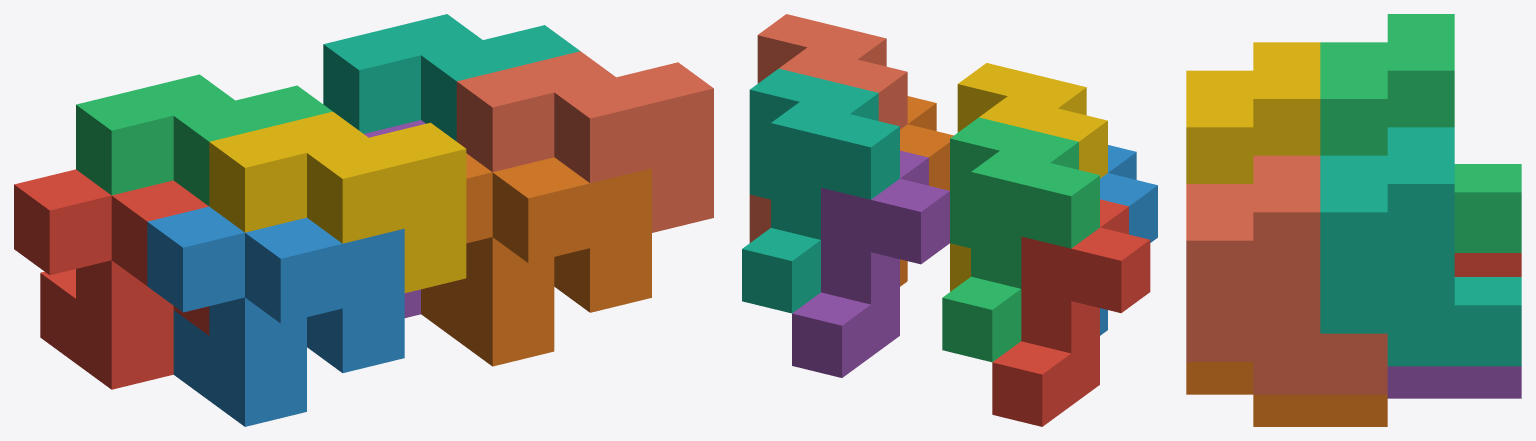
Rendered from tiling.obj.
3 views of the same model, side by side, from view 1: azimuth 30°, elevation 25°; view 2: azimuth 150°, elevation 25°; view 3: azimuth 270°, elevation 25° (orthographic). The views are drawn at different scales.
Visible parts, largest first — view 1: copy_1_domain_2, copy_1_domain_6, copy_1_domain_4, copy_1_domain_8, copy_1_domain_1, copy_1_domain_3, copy_1_domain_7, copy_1_domain_5; view 2: copy_1_domain_3, copy_1_domain_7, copy_1_domain_1, copy_1_domain_5, copy_1_domain_8, copy_1_domain_4, copy_1_domain_2, copy_1_domain_6; view 3: copy_1_domain_7, copy_1_domain_8, copy_1_domain_3, copy_1_domain_4, copy_1_domain_6, copy_1_domain_5, copy_1_domain_1.
Boxes of the visible parts, <box> form: copy_1_domain_2: <box>147,206,404,426</box>; copy_1_domain_6: <box>421,153,651,366</box>; copy_1_domain_4: <box>209,111,466,293</box>; copy_1_domain_8: <box>456,51,713,232</box>; copy_1_domain_1: <box>14,169,209,389</box>; copy_1_domain_3: <box>76,74,332,205</box>; copy_1_domain_7: <box>323,14,580,141</box>; copy_1_domain_5: <box>364,120,425,317</box>; copy_1_domain_3: <box>942,117,1099,362</box>; copy_1_domain_7: <box>742,68,899,313</box>; copy_1_domain_1: <box>992,199,1150,426</box>; copy_1_domain_5: <box>792,150,949,377</box>; copy_1_domain_8: <box>749,14,907,242</box>; copy_1_domain_4: <box>950,63,1107,291</box>; copy_1_domain_2: <box>1100,145,1157,335</box>; copy_1_domain_6: <box>900,96,953,286</box>; copy_1_domain_7: <box>1320,127,1521,366</box>; copy_1_domain_8: <box>1186,155,1387,394</box>; copy_1_domain_3: <box>1320,14,1521,252</box>; copy_1_domain_4: <box>1186,42,1320,183</box>; copy_1_domain_6: <box>1186,362,1387,426</box>; copy_1_domain_5: <box>1387,366,1521,398</box>; copy_1_domain_1: <box>1454,253,1521,276</box>.
Size of the model in its own units: 9 by 4 by 5.
